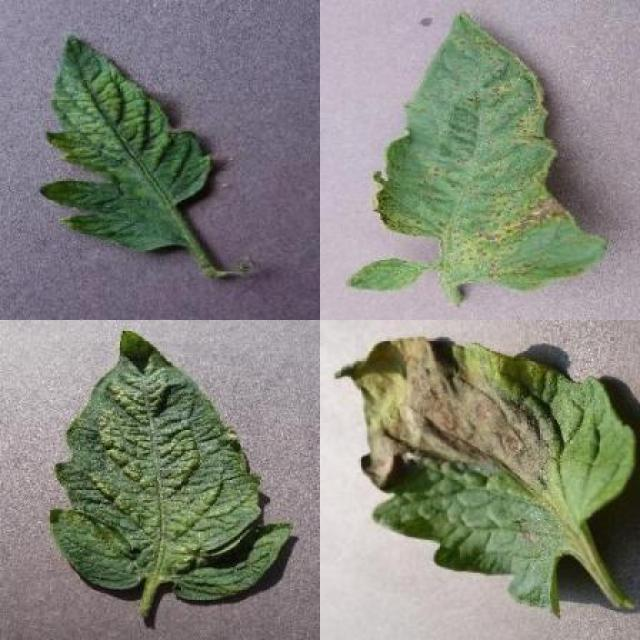Late Blight: (335, 330, 638, 620)
Mosaic Virus: (37, 34, 213, 254)
Septoria: (372, 7, 607, 293)
Spider Mites: (49, 328, 292, 603)
